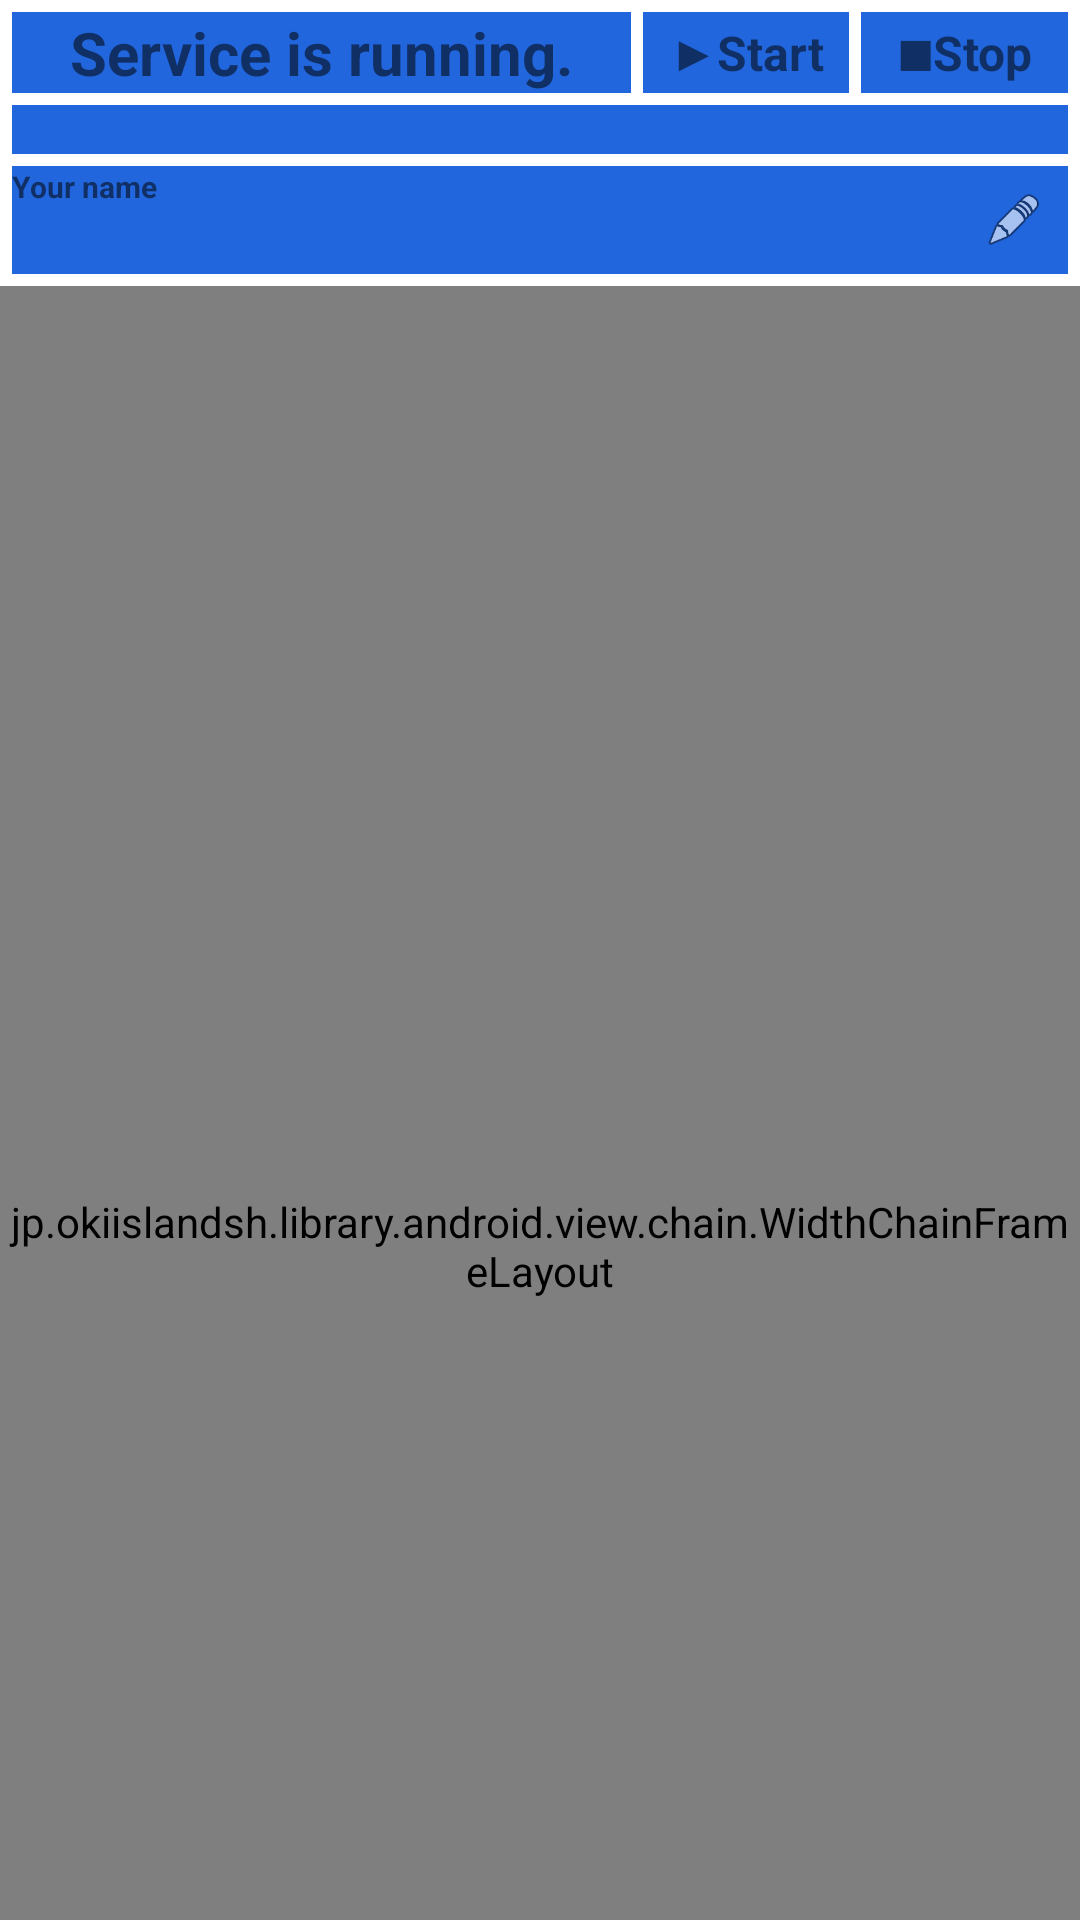

Locate icon controls on the screen. Image size 1080 x 1920, boxes as (x1, y1, x2, y2).
edit: (960, 166, 1068, 274)
